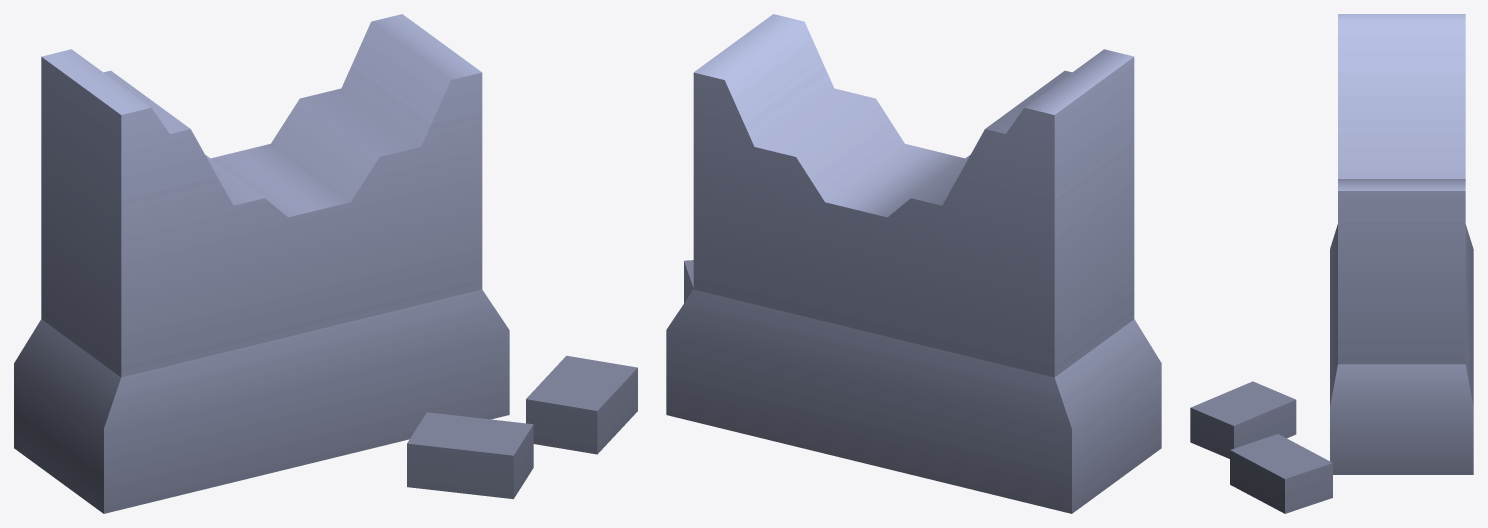
Rendered from gravestone-broken.glb.
The picture shows the model from 3 angles, left to right: view 1: azimuth 30°, elevation 25°; view 2: azimuth 150°, elevation 25°; view 3: azimuth 270°, elevation 25°; orthographic projection. The views are drawn at different scales.
Parts seen in each view (by area): view 1: Asset3DLoader.sceneRoot; view 2: Asset3DLoader.sceneRoot; view 3: Asset3DLoader.sceneRoot.
Boxes of the visible parts, x1,y1,x2,y2 form: Asset3DLoader.sceneRoot: [14, 14, 637, 513]; Asset3DLoader.sceneRoot: [666, 14, 1161, 513]; Asset3DLoader.sceneRoot: [1190, 14, 1473, 513].
Size of the model in its own units: 0.4864 by 0.3581 by 0.2949.
Materials: 1 (1 with a texture image).
